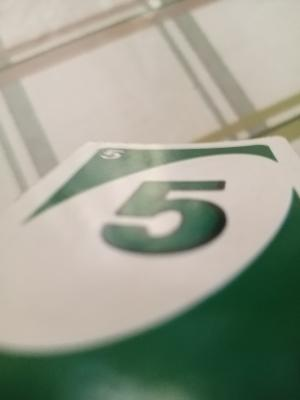green: (94, 147, 279, 378)
